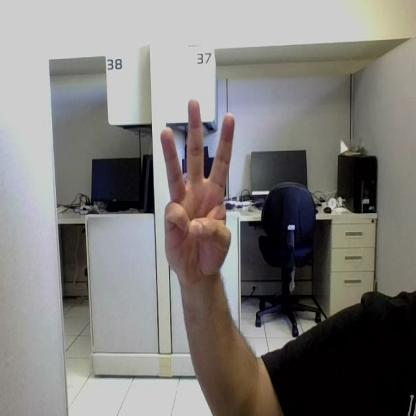W: (160, 100, 234, 280)
